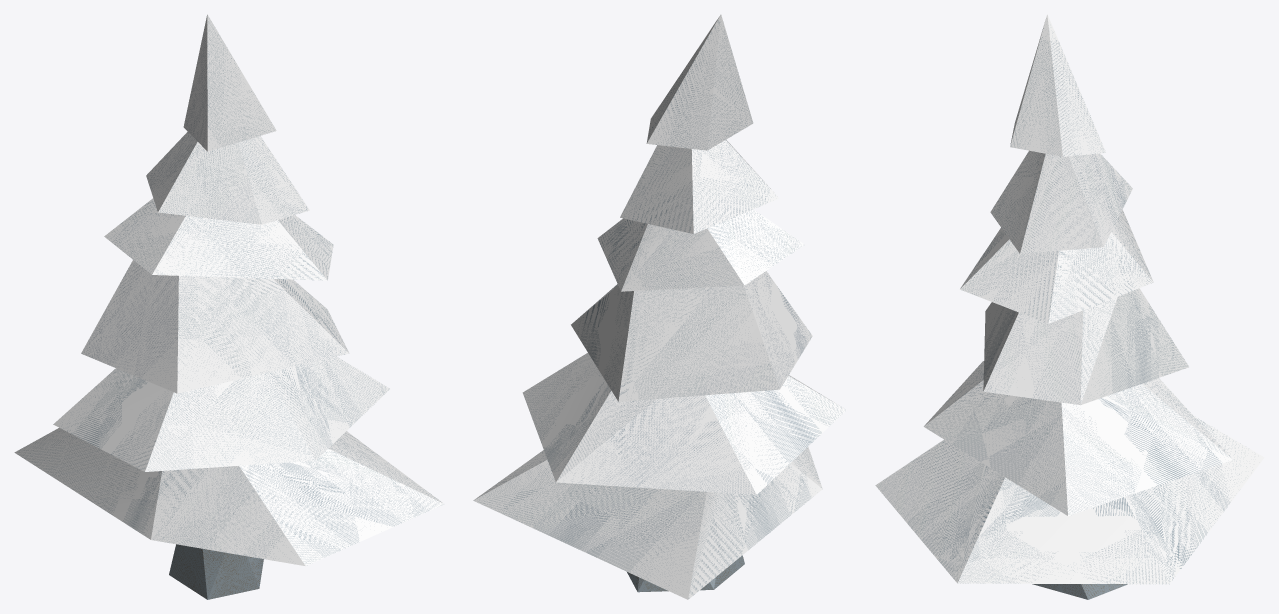
File: Tree_Pine_Snow_06.fbx
The picture shows the model from 3 angles, left to right: view 1: azimuth 30°, elevation 25°; view 2: azimuth 150°, elevation 25°; view 3: azimuth 270°, elevation 25°; orthographic projection. The views are drawn at different scales.
Visible parts, largest first — view 1: Model; view 2: Model; view 3: Model.
Part boxes in pixels (<box>): Model: <box>14,14,444,599</box>; Model: <box>473,14,846,599</box>; Model: <box>875,14,1264,599</box>.
Size of the model in its own units: 664 by 1255 by 806.
